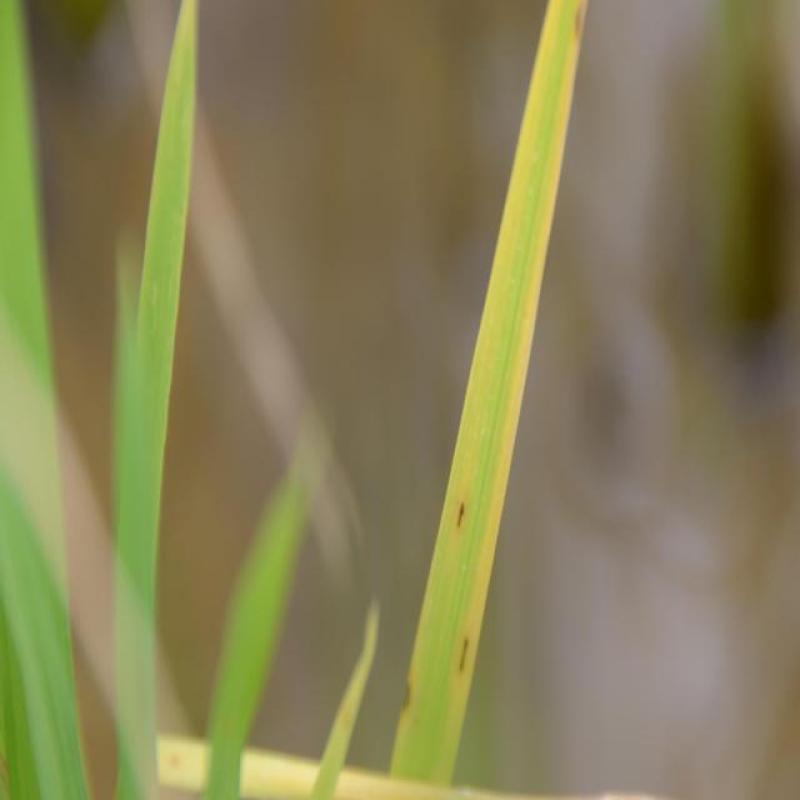Rice Tungro: (349, 0, 611, 800)
